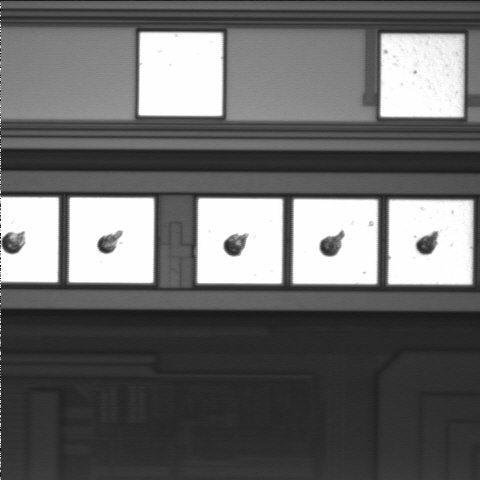pad: (197, 198, 283, 284), (69, 198, 154, 283), (293, 199, 378, 284), (388, 200, 473, 284), (139, 33, 223, 116), (380, 34, 463, 117)
